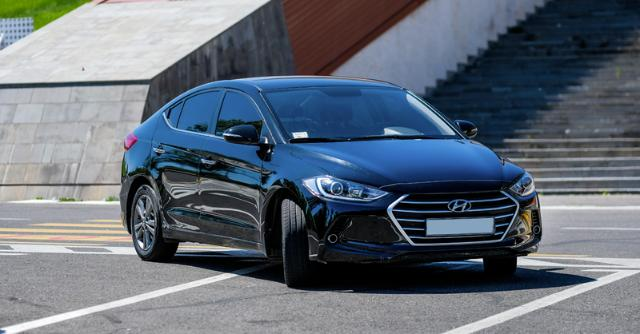hyundai: (119, 75, 543, 288)
